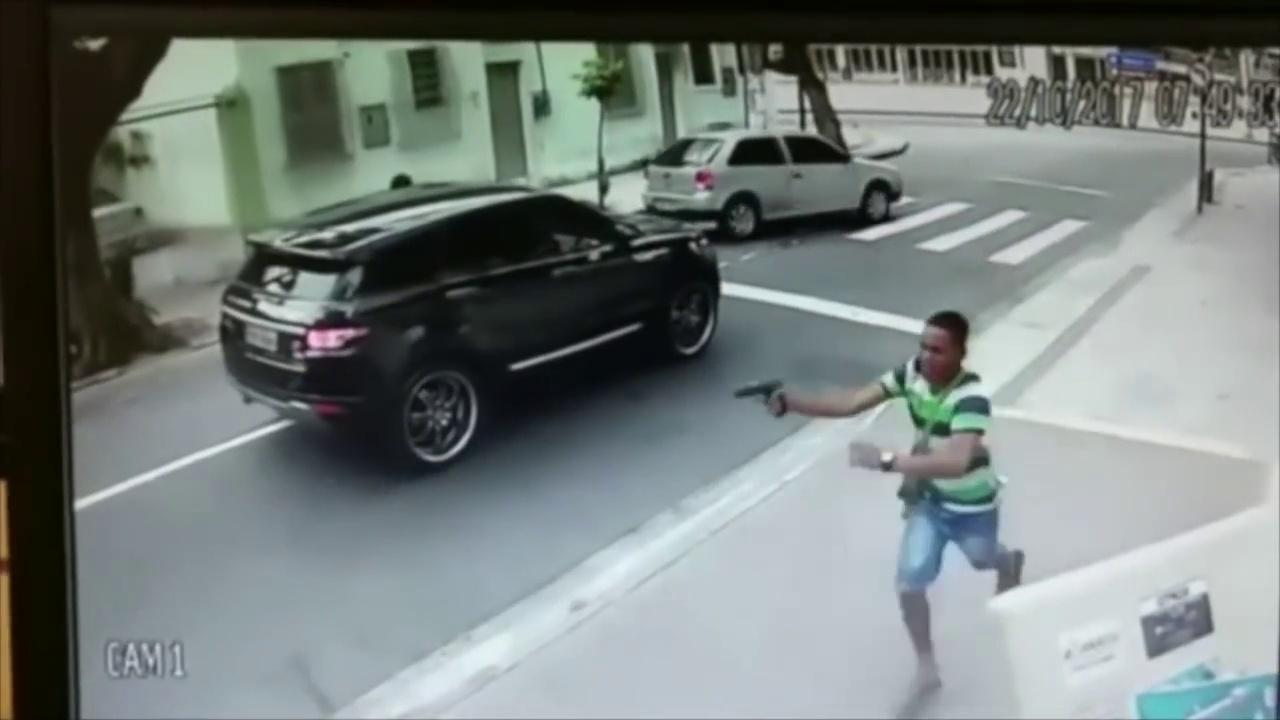Guns: (725, 363, 797, 431)
